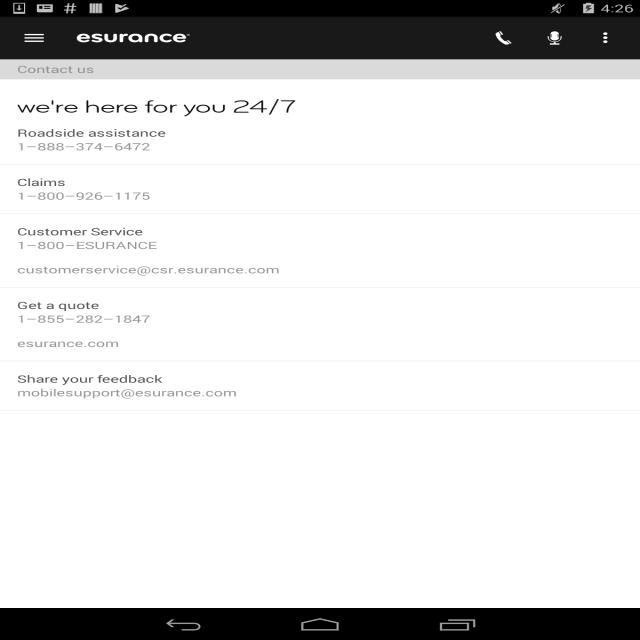ImageButton: (8, 22, 59, 54)
ImageView: (60, 34, 190, 42)
TextView: (0, 60, 640, 80), (17, 95, 297, 118), (17, 263, 280, 276), (17, 386, 237, 399), (17, 126, 166, 140), (17, 372, 163, 386), (17, 238, 157, 252), (17, 189, 150, 203), (17, 312, 150, 326), (17, 140, 150, 153), (580, 22, 632, 54), (17, 225, 143, 238), (478, 22, 529, 54), (529, 22, 580, 54), (17, 336, 119, 350), (17, 298, 99, 312), (17, 175, 66, 189)
